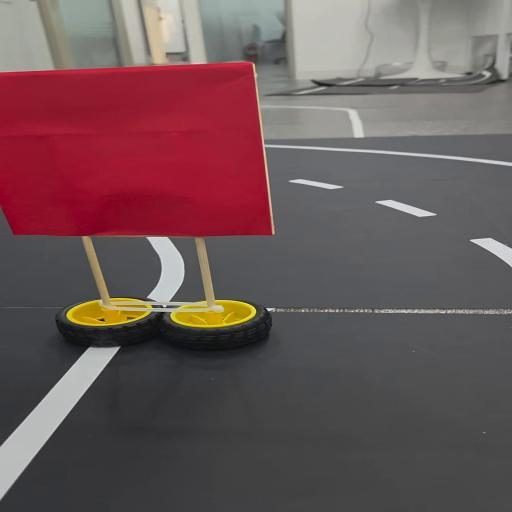Sign_A: (6, 62, 278, 364)
